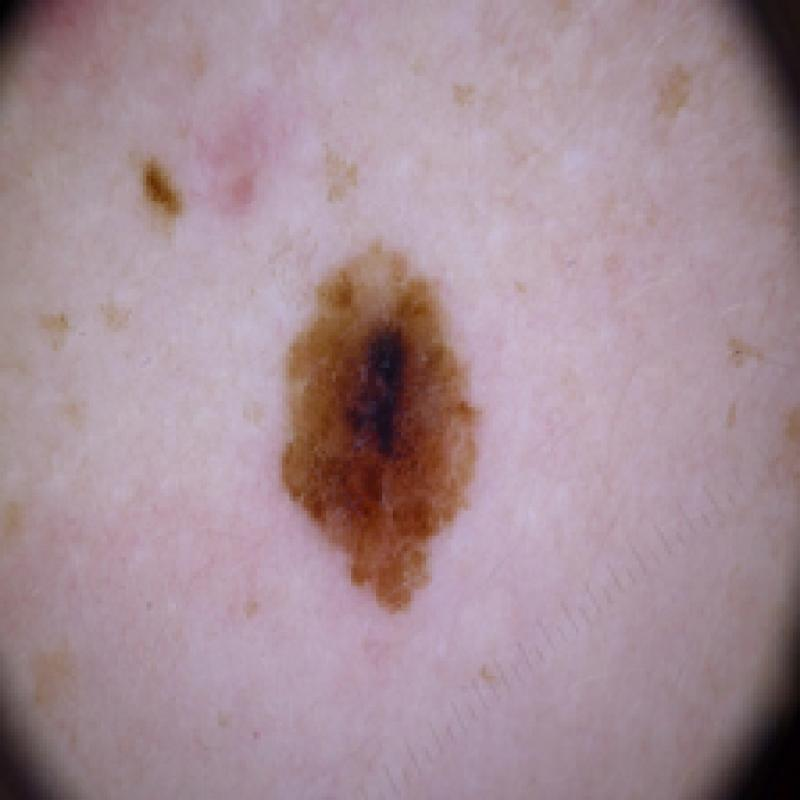benign: (247, 218, 508, 617), (114, 108, 198, 276), (496, 137, 496, 137)
